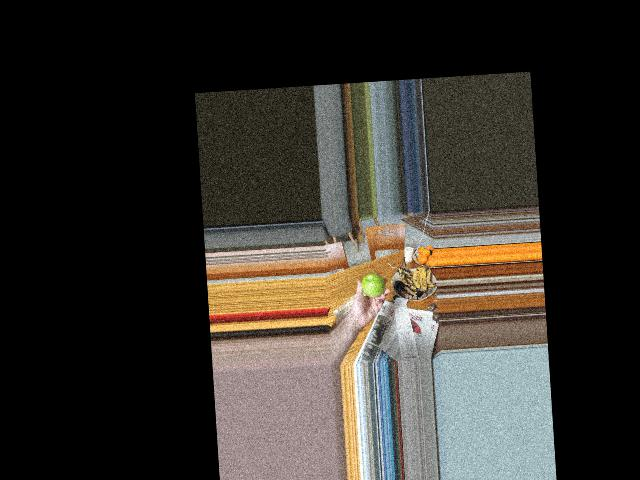apple: (361, 271, 385, 299)
